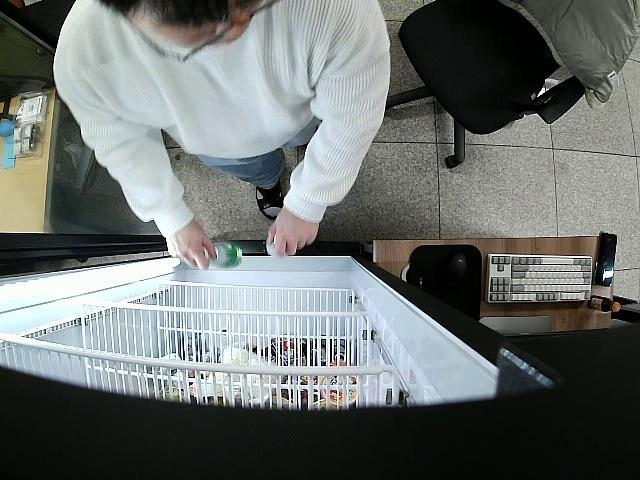18_trevi: (202, 241, 244, 268)
